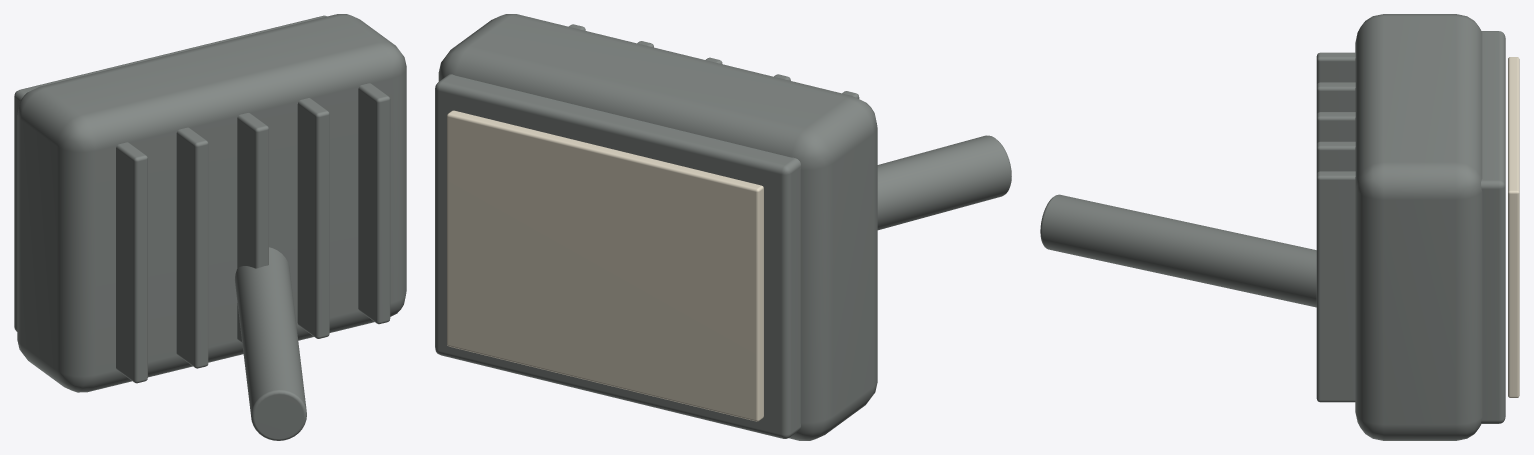
The model's file is lamp-head.glb.
3 renders of one model, left to right at view 1: azimuth 30°, elevation 25°; view 2: azimuth 150°, elevation 25°; view 3: azimuth 270°, elevation 25°, orthographic. The views are drawn at different scales.
Parts seen in each view (by area): view 1: HousingAndArm; view 2: HousingAndArm, SeparateLens; view 3: HousingAndArm, SeparateLens.
Boxes of the visible parts, bbox=[...] form: HousingAndArm: bbox=[14, 14, 406, 440]; HousingAndArm: bbox=[435, 14, 1011, 440]; SeparateLens: bbox=[447, 110, 763, 421]; HousingAndArm: bbox=[1040, 14, 1505, 440]; SeparateLens: bbox=[1508, 57, 1519, 397].
Size of the model in its own units: 0.171 by 0.13 by 0.2044.
